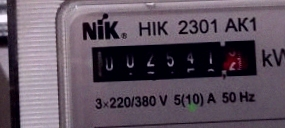0: (101, 50, 115, 72), (122, 48, 135, 69)
1: (203, 43, 215, 66)
2: (142, 46, 157, 69)
4: (183, 44, 195, 65)
5: (162, 45, 176, 69)
6: (225, 58, 237, 71)
screen: (78, 29, 268, 90)
